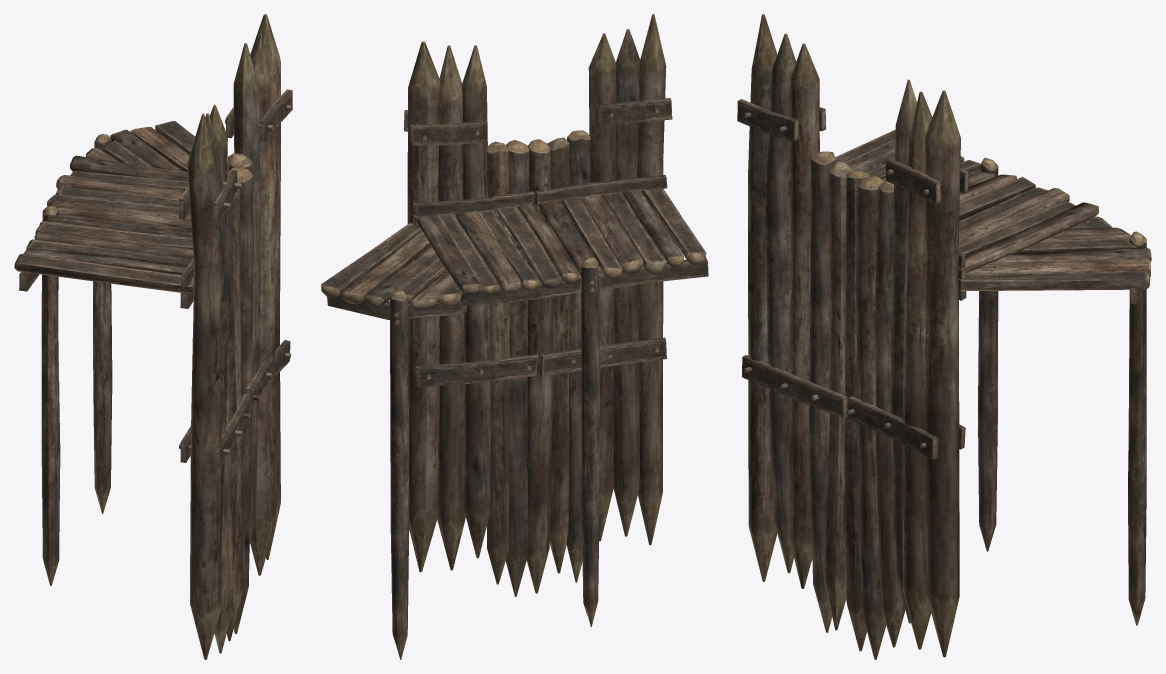
File: jav_struc_def_log_t1_wall_diag_rampart_outa-transformed.glb
3 views of the same model, side by side, from view 1: azimuth 30°, elevation 25°; view 2: azimuth 150°, elevation 25°; view 3: azimuth 270°, elevation 25° (orthographic). The views are drawn at different scales.
Parts seen in each view (by area): view 1: default; view 2: default; view 3: default.
Boxes of the visible parts, box(x1,y1,x2,y2) form: default: box(14, 14, 292, 659); default: box(321, 14, 708, 659); default: box(737, 14, 1151, 659).
Bounding box in the file's own units: 3.59 × 6.78 × 4.24.
Materials: 1 (1 with a texture image).
